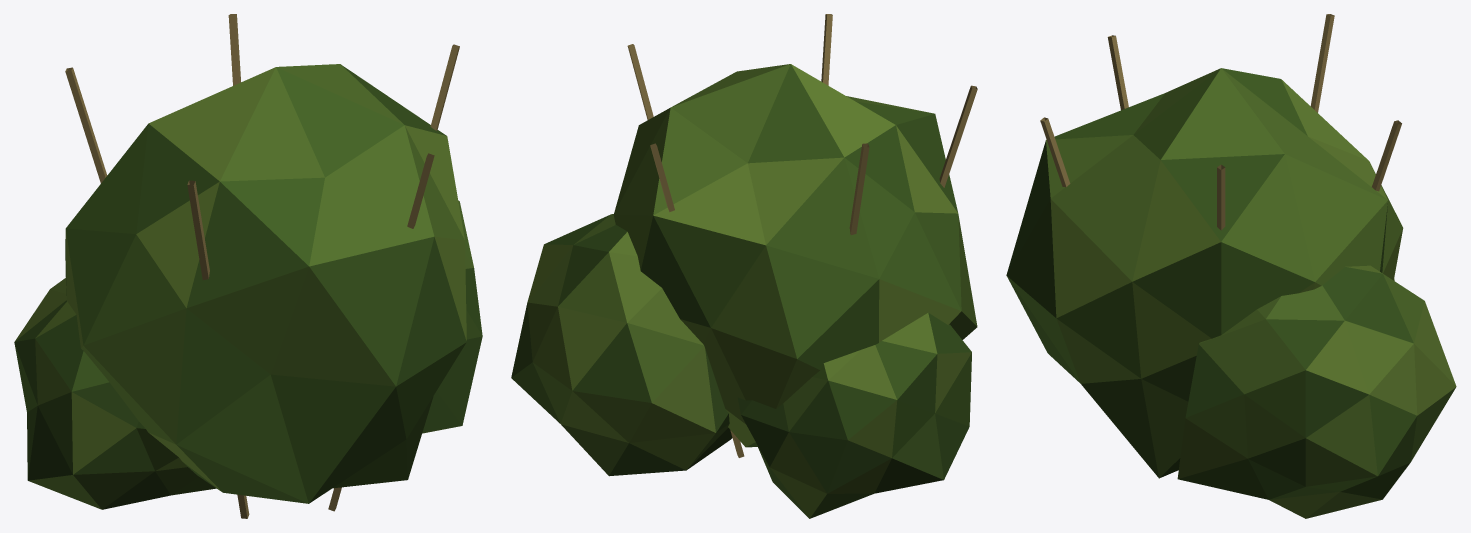
The model's file is fr_bush_b.glb.
3 renders of one model, left to right at view 1: azimuth 30°, elevation 25°; view 2: azimuth 150°, elevation 25°; view 3: azimuth 270°, elevation 25°, orthographic. The views are drawn at different scales.
Visible parts, largest first — view 1: fr_bush_b; view 2: fr_bush_b; view 3: fr_bush_b.
Boxes of the visible parts, x1,y1,x2,y2 form: fr_bush_b: [14, 14, 482, 518]; fr_bush_b: [511, 14, 977, 518]; fr_bush_b: [1006, 14, 1456, 518].
Bounding box in the file's own units: 2.7 × 2.61 × 2.66.
